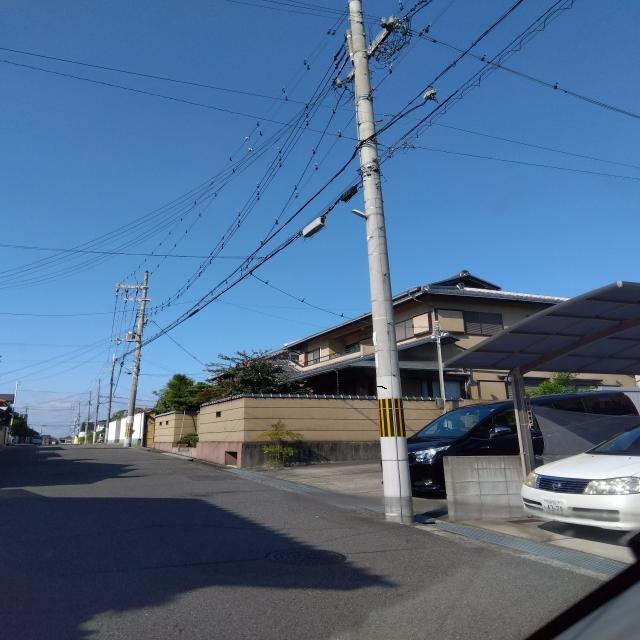dennshinnbashira: (272, 3, 372, 434)
